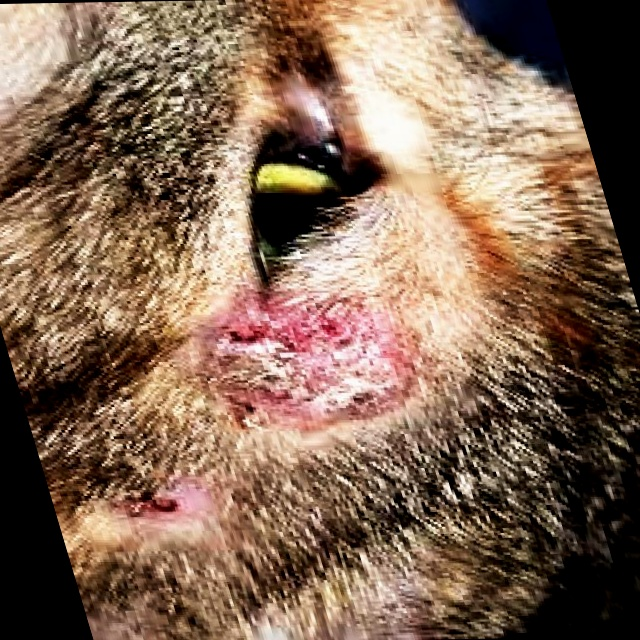ringworm: (180, 273, 471, 435), (111, 484, 209, 529)
